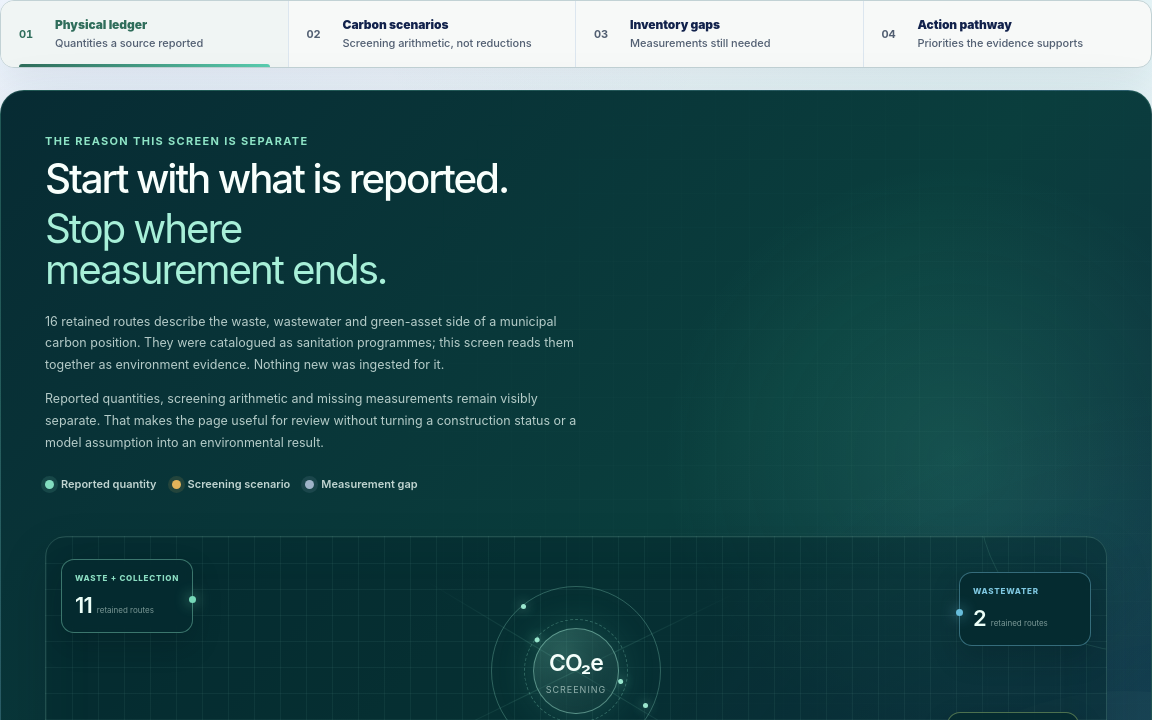
it: environment and carbon screen › turns the retained evidence into bounded recommendations without claiming carbon neutrality
Click the tab "04 Action pathway Priorities the evidence supports". click: x=1007, y=34
box: [864, 1, 1151, 67]
(page scrolled)
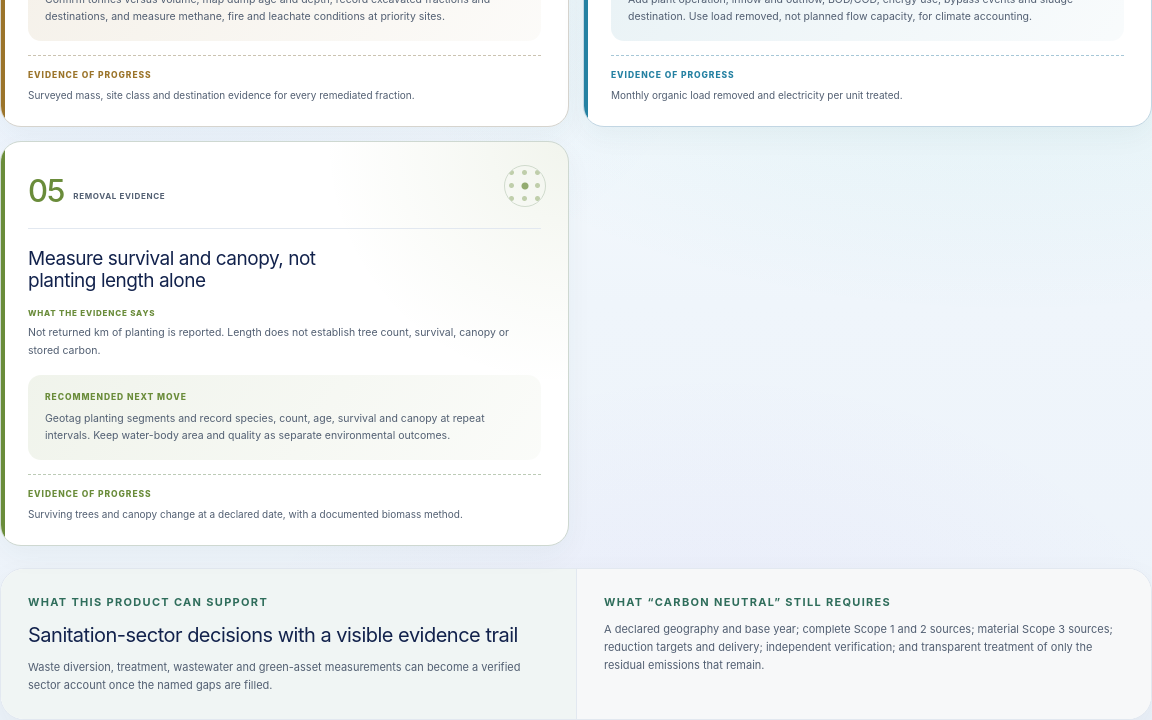
Expected: the text "What “carbon neutral” still requires" is shown, [604, 595, 891, 609]
Expected: the text "complete Scope 1 and 2 sources" is shown, [604, 622, 1113, 672]
